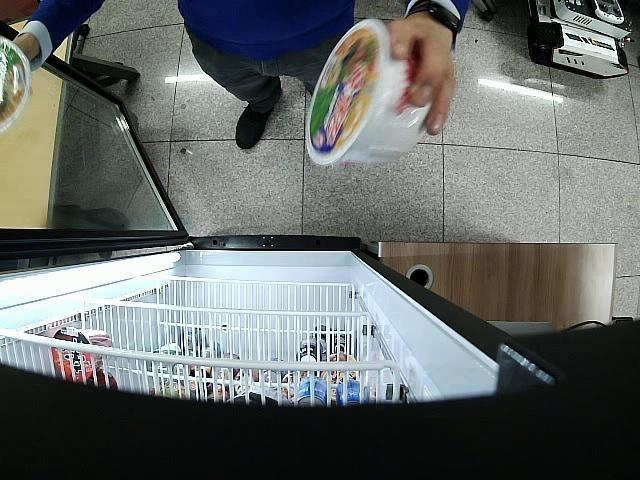09_yukGaeJang: (310, 19, 436, 166)
